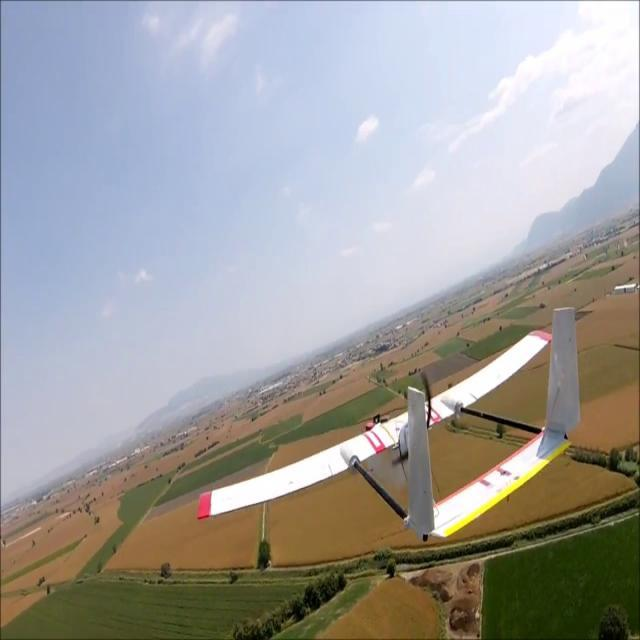iha: (192, 303, 588, 541)
